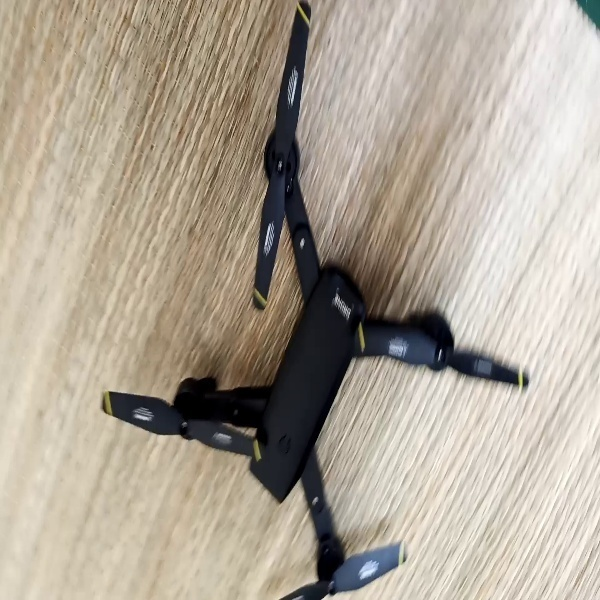drone: (95, 5, 532, 600)
